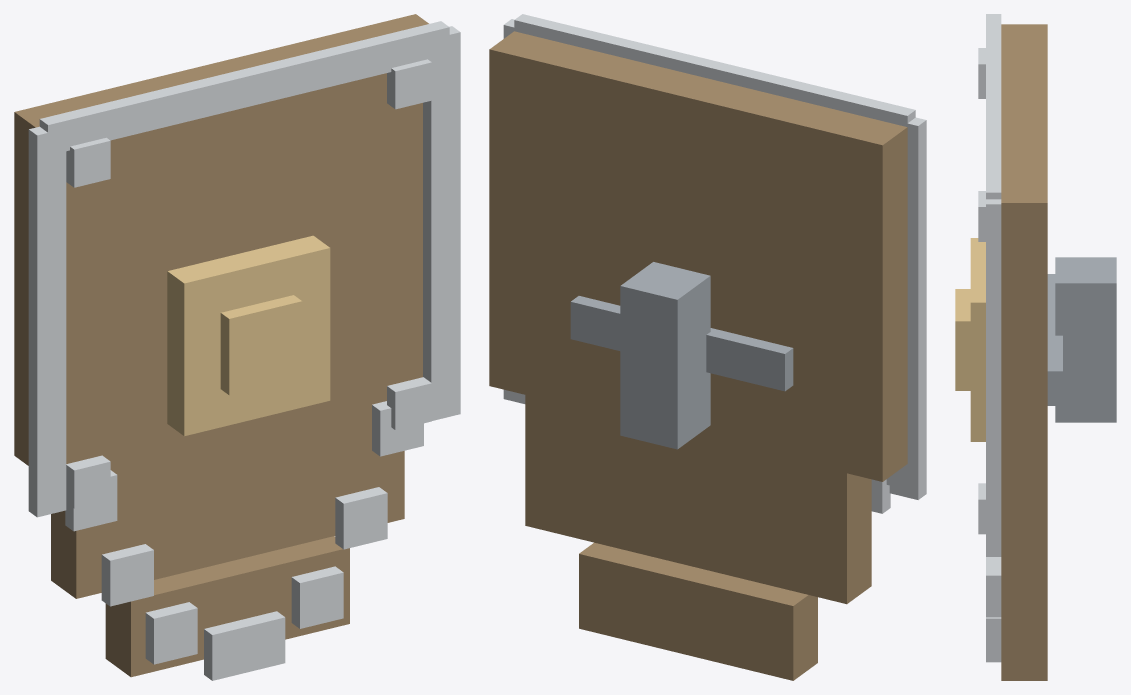
The model's file is shield.glb.
The picture shows the model from 3 angles, left to right: view 1: azimuth 30°, elevation 25°; view 2: azimuth 150°, elevation 25°; view 3: azimuth 270°, elevation 25°; orthographic projection. The views are drawn at different scales.
Parts seen in each view (by area): view 1: Weapon_Shield; view 2: Weapon_Shield; view 3: Weapon_Shield.
Part boxes in pixels (x1,y1,x2,y2): Weapon_Shield: (14,14,460,680); Weapon_Shield: (489,14,926,680); Weapon_Shield: (955,14,1116,680).
Size of the model in its own units: 0.58 by 0.78 by 0.21.
